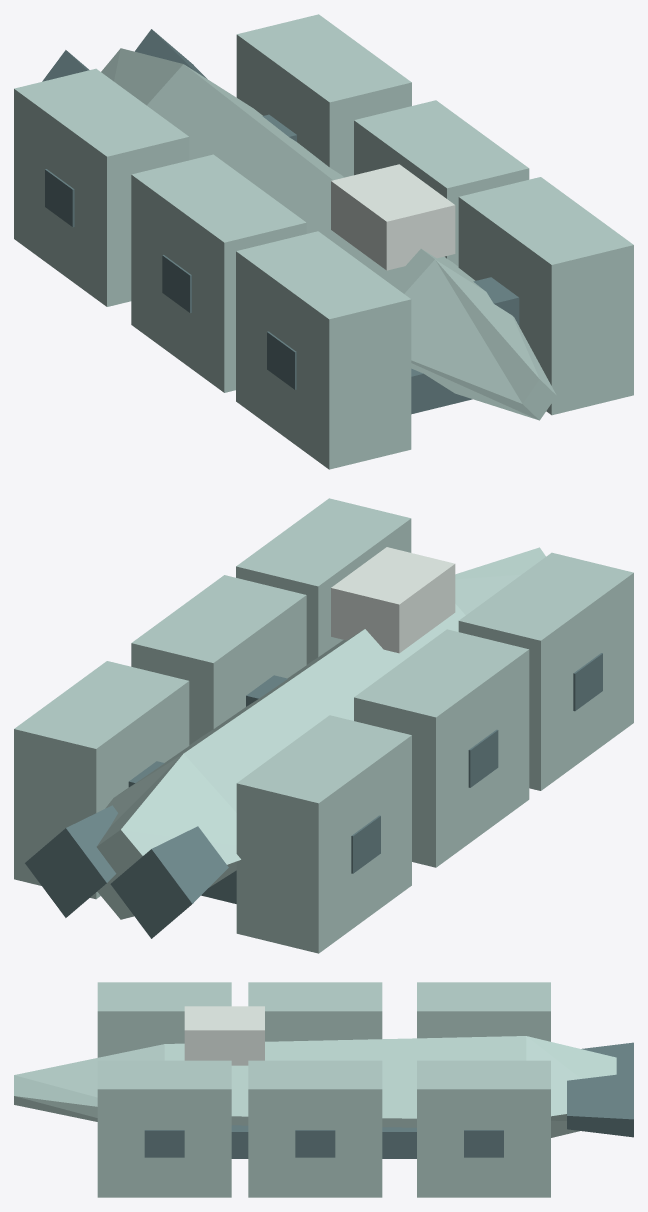
3 views of the same model, one above another, from view 1: azimuth 30°, elevation 25°; view 2: azimuth 150°, elevation 25°; view 3: azimuth 270°, elevation 25° (orthographic). The views are drawn at different scales.
Size of the model in its own units: 3.71 by 2.01 by 8.98.
